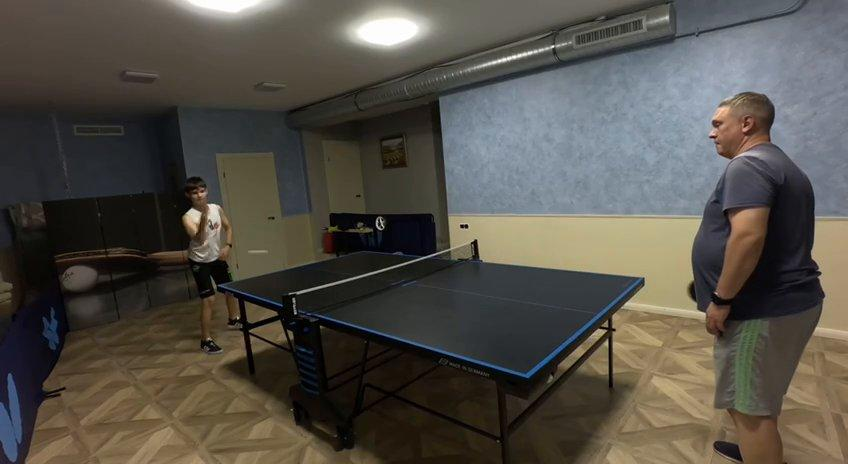Net: (281, 240, 481, 325)
Player1: (181, 177, 237, 352)
Player2: (692, 93, 824, 452)
Table: (220, 250, 642, 372)
